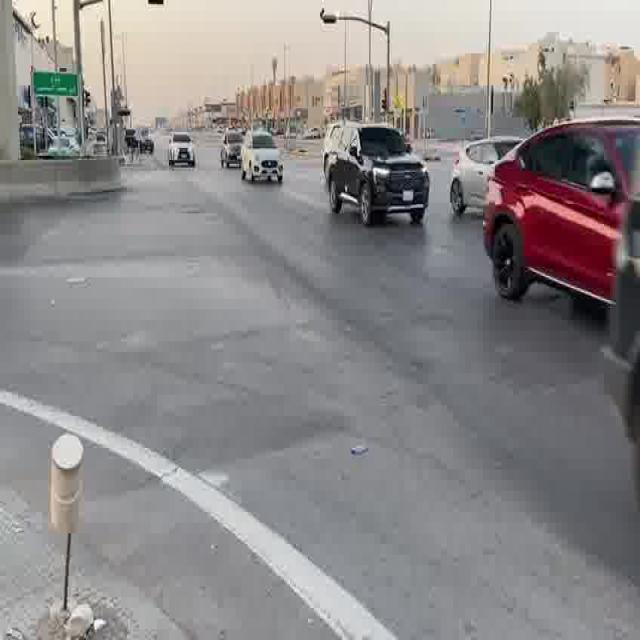bus: (483, 114, 640, 315), (325, 121, 429, 223), (453, 137, 521, 216), (242, 131, 283, 182), (168, 133, 197, 169), (220, 131, 244, 169), (22, 124, 56, 149), (133, 128, 158, 152)
car: (179, 209, 640, 640), (483, 114, 640, 315), (325, 121, 429, 223), (453, 137, 521, 216), (242, 131, 283, 182), (168, 133, 197, 169), (220, 131, 244, 169), (22, 124, 56, 149), (133, 128, 158, 152)
lanes: (179, 209, 640, 640), (226, 209, 639, 634)
lanes2: (226, 209, 639, 634), (260, 205, 640, 474)
lanes3: (260, 205, 640, 474), (286, 201, 640, 404)
lanes4: (286, 201, 640, 404), (327, 192, 640, 313)
lanes5: (327, 192, 640, 313)
